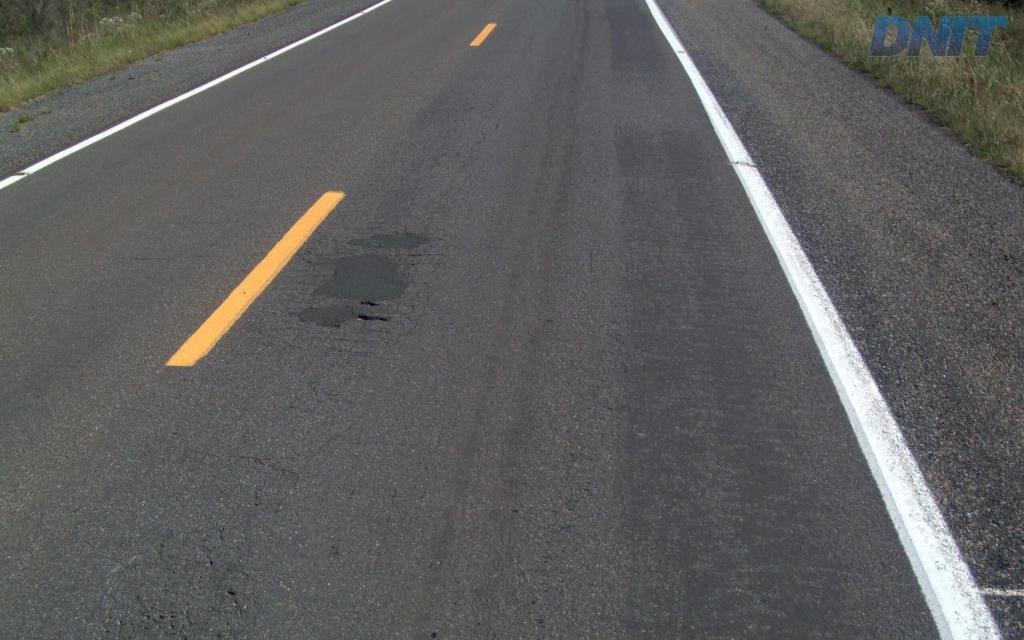pothole: (353, 311, 390, 322), (353, 293, 384, 306)
